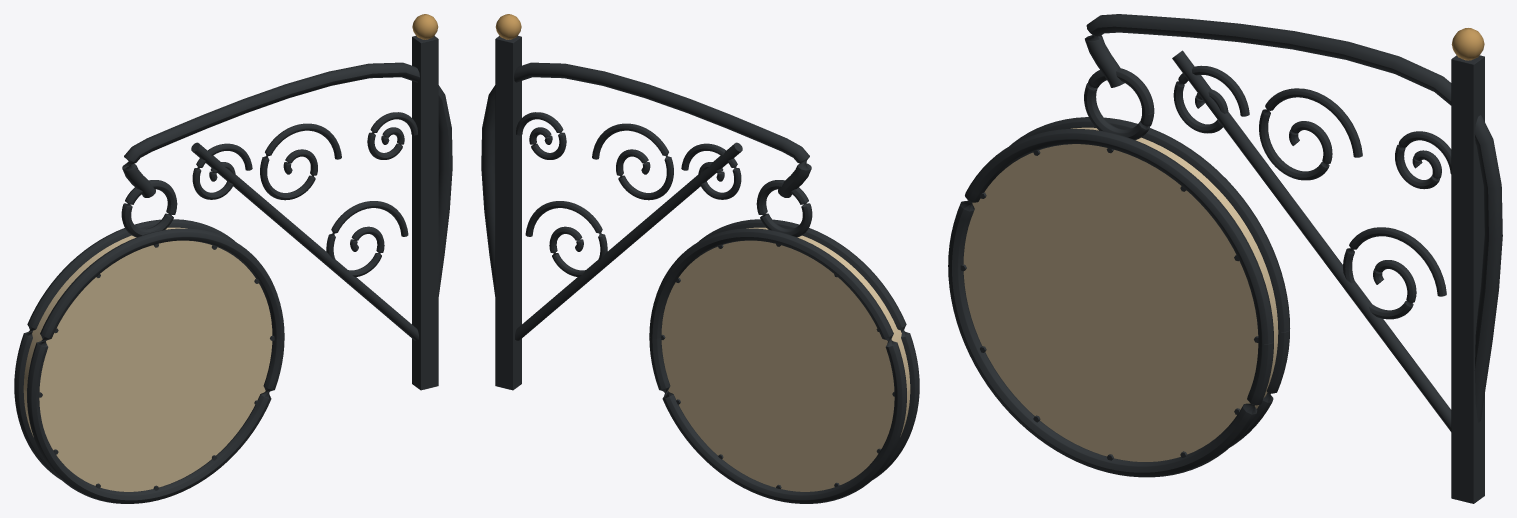
Rendered from sign.glb.
3 views of the same model, side by side, from view 1: azimuth 30°, elevation 25°; view 2: azimuth 150°, elevation 25°; view 3: azimuth 330°, elevation 25° (orthographic). The views are drawn at different scales.
Visible parts, largest first — view 1: sign_enamel.005, sign_black.005, sign_brass.005; view 2: sign_enamel.005, sign_black.005, sign_brass.005; view 3: sign_enamel.005, sign_black.005, sign_brass.005.
Part boxes in pixels (x1,y1,x2,y2): sign_enamel.005: (23,227,272,491); sign_black.005: (14,36,452,503); sign_brass.005: (412,14,438,39); sign_enamel.005: (661,227,910,491); sign_black.005: (481,36,919,503); sign_brass.005: (495,14,521,39); sign_enamel.005: (963,127,1278,461); sign_black.005: (948,14,1502,503); sign_brass.005: (1451,28,1484,60).
Size of the model in its own units: 1.68 by 1.55 by 0.13.
